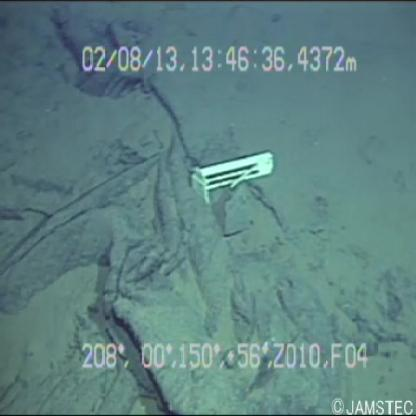Rác: (173, 123, 276, 209)
